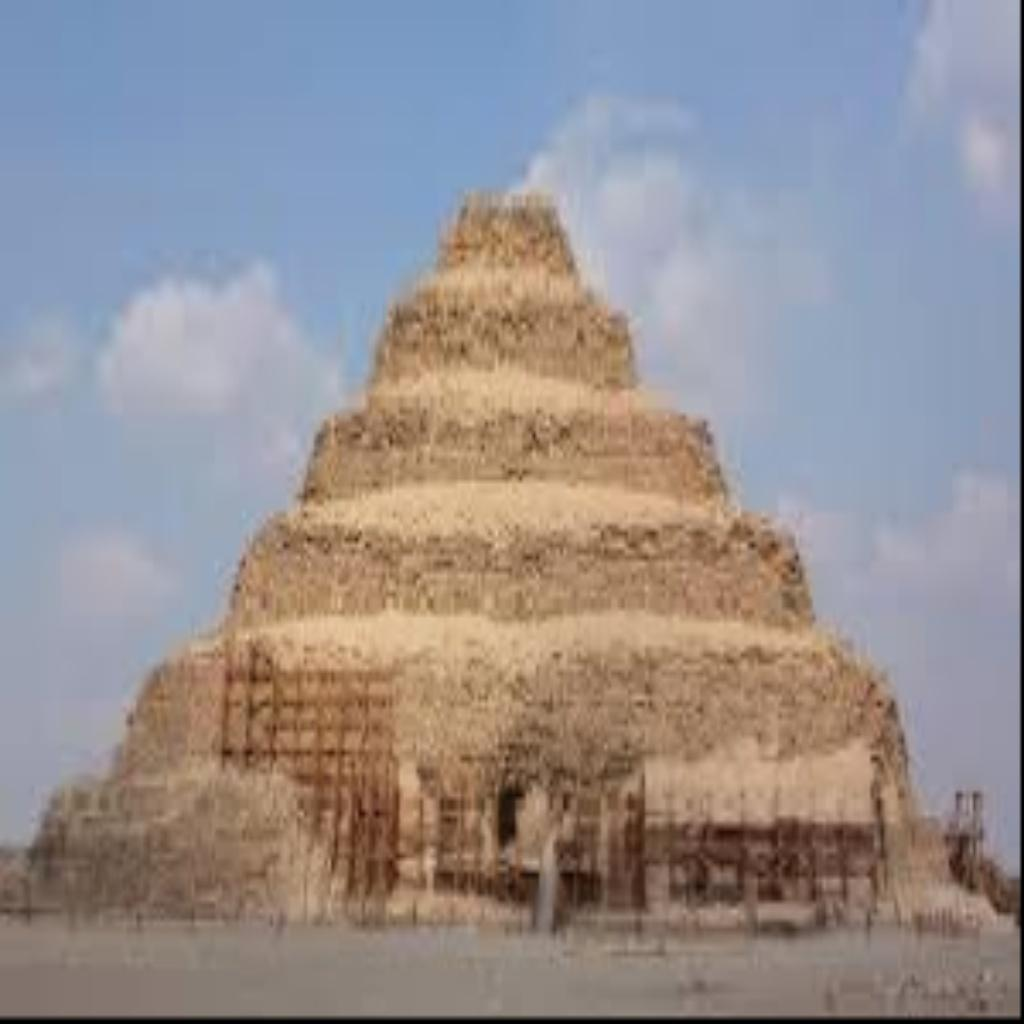Pyramid of Djoser: (24, 170, 980, 926)
